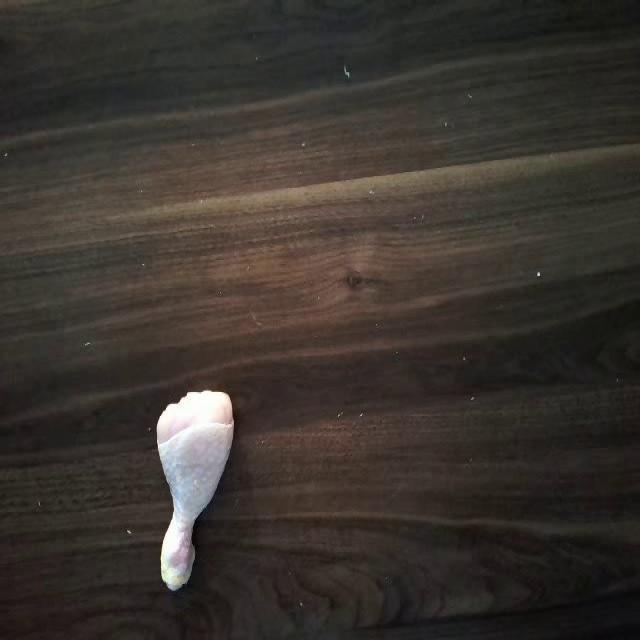leg: (134, 376, 240, 590)
